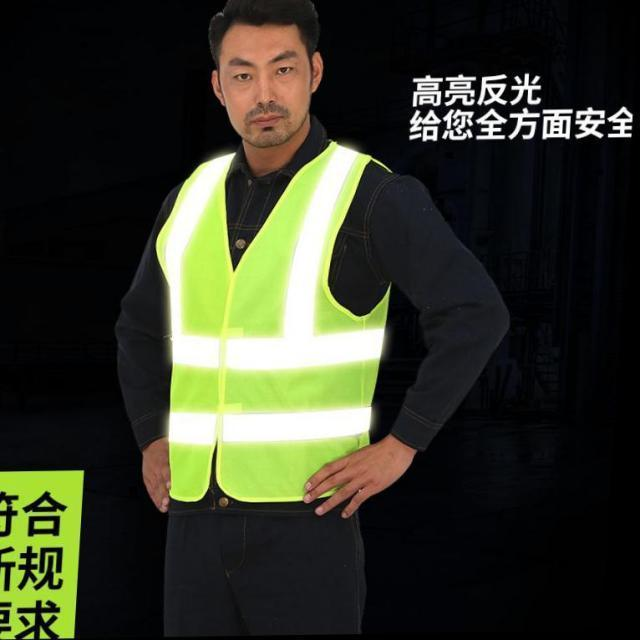safety_helmet: (149, 144, 411, 503)
